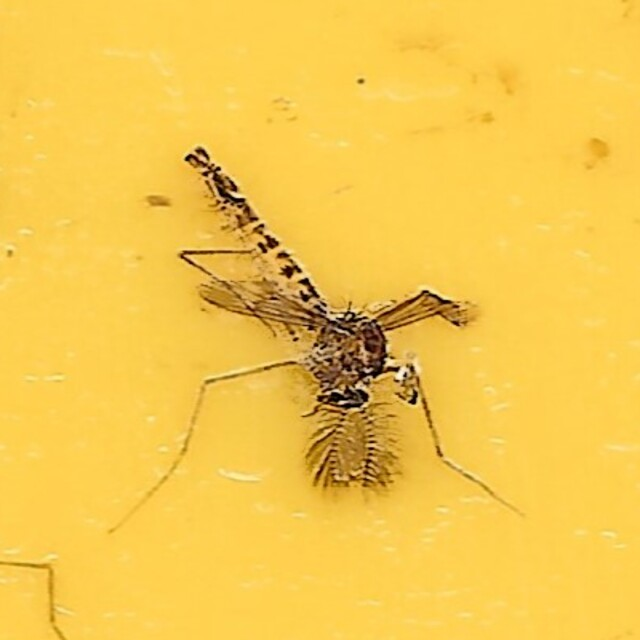Nematocera: (160, 138, 480, 502)
